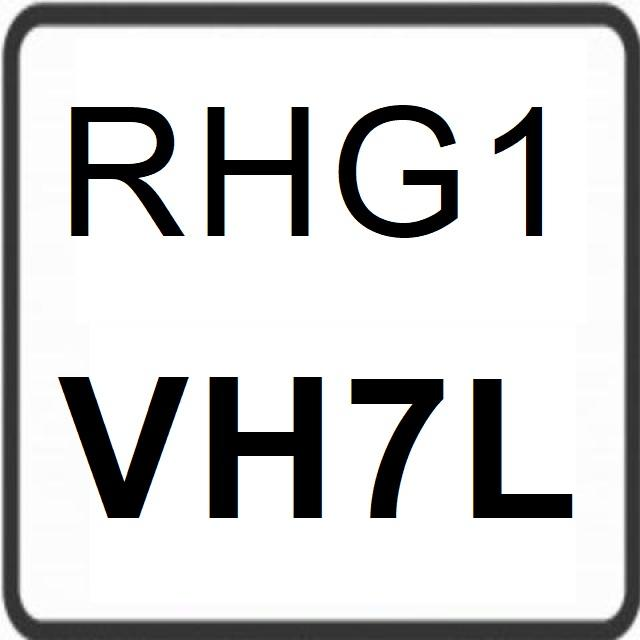1: (482, 90, 562, 248)
7: (343, 366, 451, 527)
G: (337, 92, 466, 249)
H: (200, 368, 332, 525), (198, 92, 319, 246)
L: (466, 364, 578, 529)
R: (62, 96, 189, 240)
V: (50, 366, 188, 527)
